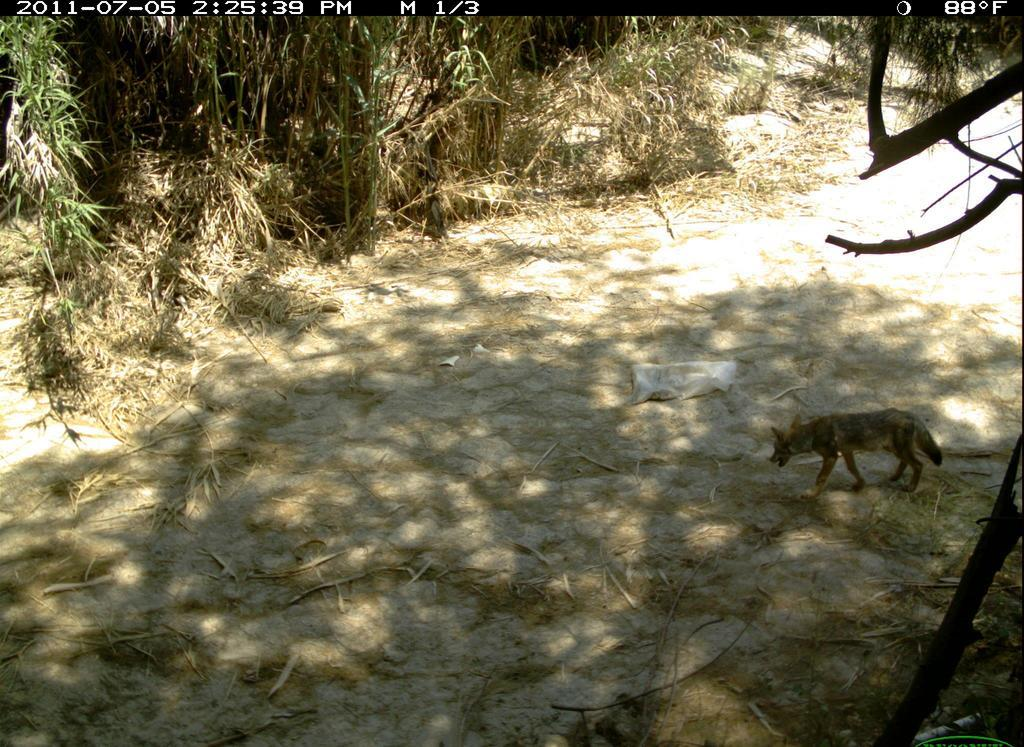coyote: (760, 399, 950, 507)
